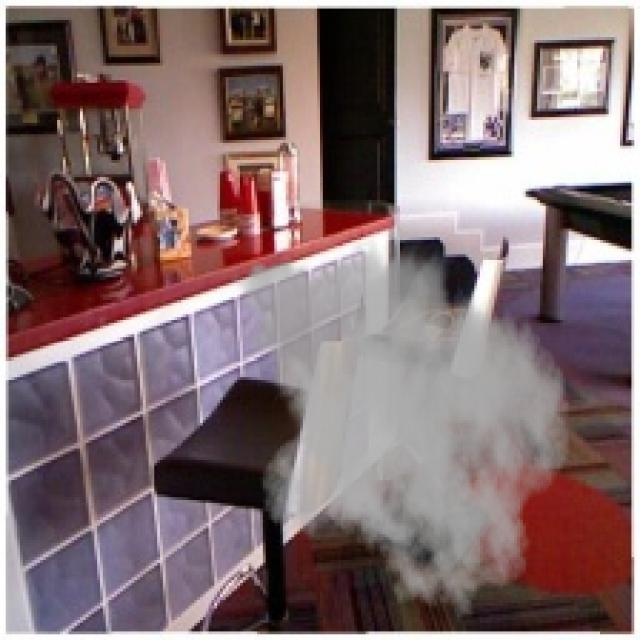smoke: (226, 237, 571, 620)
